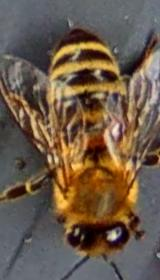varroa_mite: (101, 119, 143, 150)
